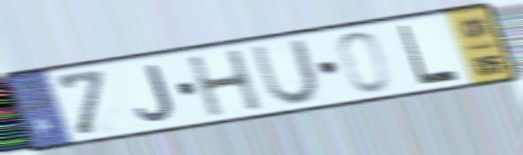0: (333, 28, 398, 97)
7: (52, 69, 112, 140)
H: (184, 46, 266, 120)
J: (132, 62, 178, 123)
L: (396, 22, 463, 87)
U: (248, 36, 323, 107)
